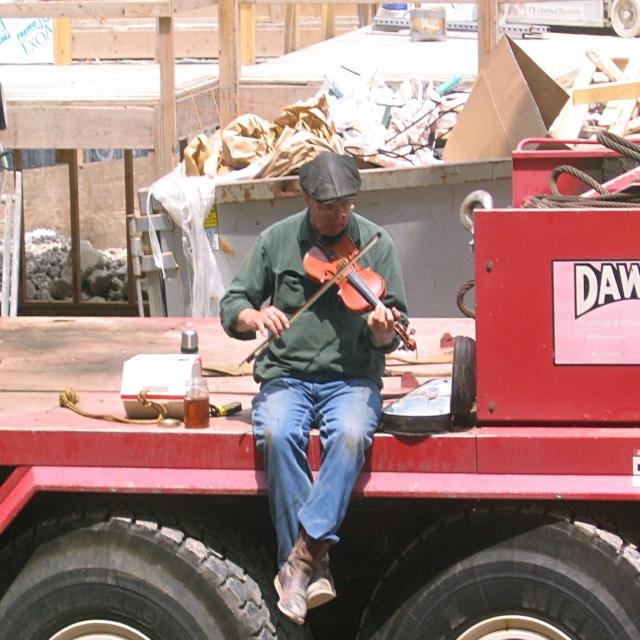violin: (297, 226, 417, 358)
